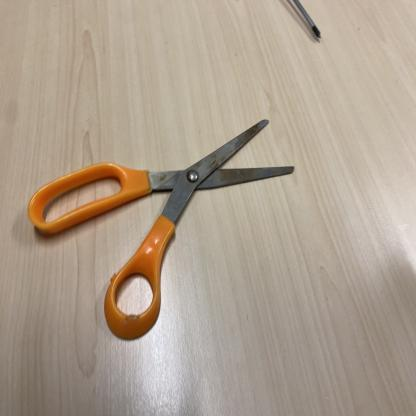scissors: (27, 119, 294, 341)
